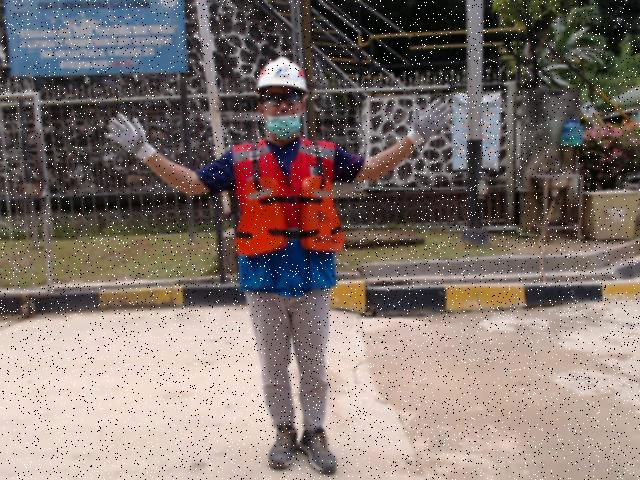glasses: (261, 93, 301, 107)
gloves: (102, 111, 160, 161), (408, 98, 456, 143)
helmet: (252, 55, 313, 96)
mask: (264, 113, 301, 140)
safety-shoes: (299, 424, 337, 474), (268, 424, 298, 471)
vest: (233, 173, 344, 254)
